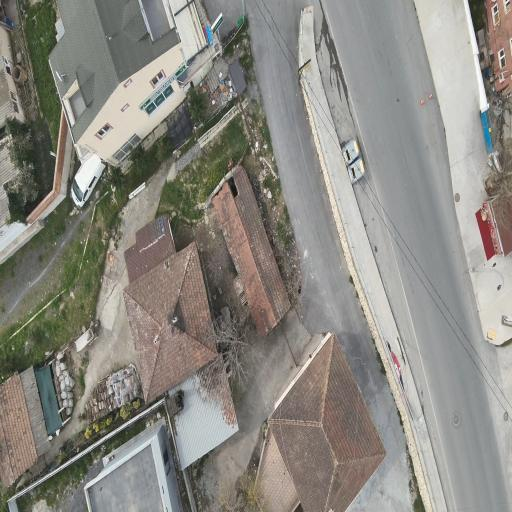car: (72, 155, 105, 207)
